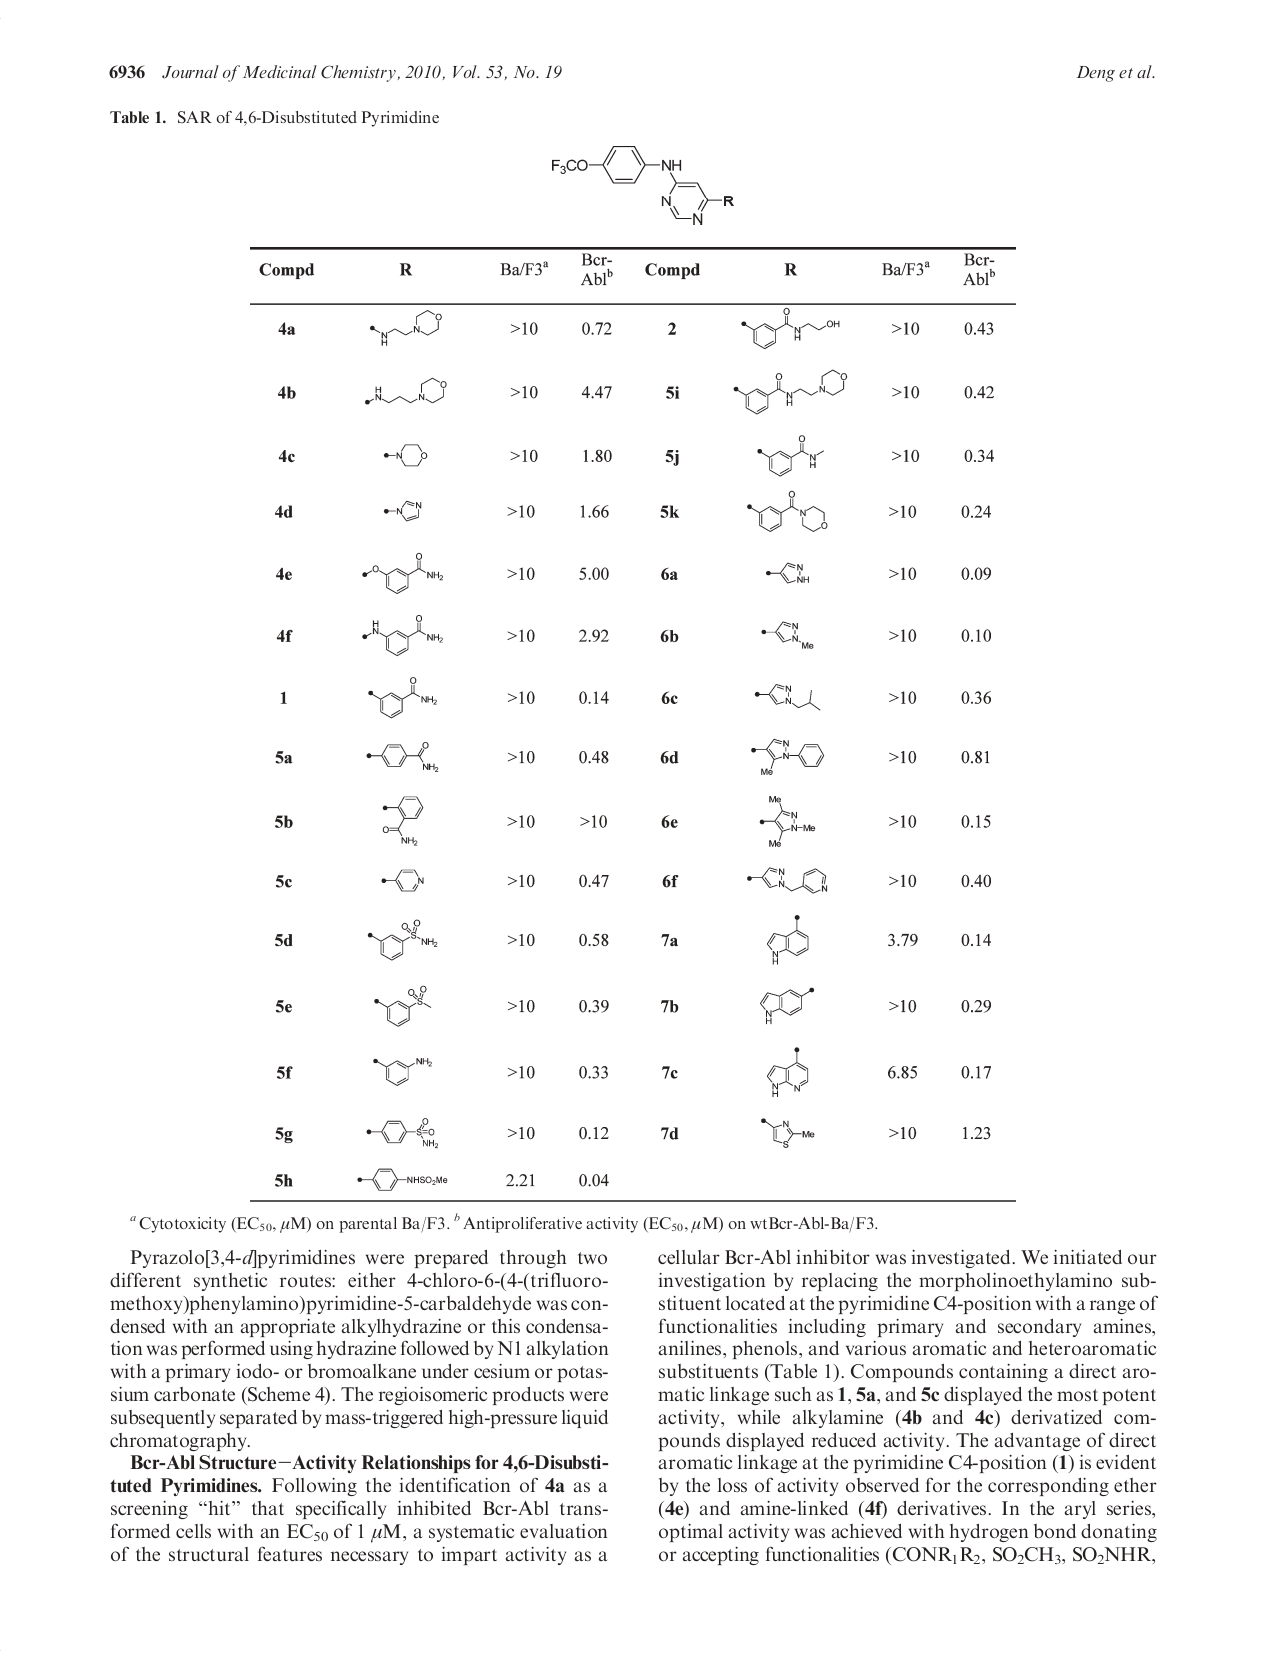exist_molecular: (551, 144, 735, 227), (731, 367, 848, 416), (739, 307, 840, 350), (360, 612, 445, 657), (360, 549, 444, 594), (746, 489, 828, 535), (367, 676, 440, 719), (759, 793, 817, 848), (367, 918, 439, 962), (755, 434, 824, 477), (368, 309, 443, 348), (751, 737, 824, 777), (364, 1116, 440, 1150), (364, 739, 439, 774), (363, 375, 447, 406), (372, 984, 432, 1027), (746, 864, 828, 894), (765, 912, 810, 965), (766, 1045, 810, 1098), (356, 1166, 448, 1192), (759, 985, 817, 1025), (382, 793, 423, 847), (753, 682, 823, 711), (372, 1055, 435, 1087), (759, 1116, 817, 1149), (761, 618, 815, 652), (382, 442, 430, 469), (765, 561, 813, 585), (380, 867, 426, 892), (383, 497, 426, 523)
